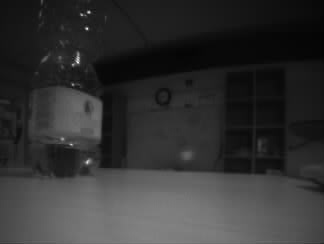Bottle: (28, 1, 106, 182)
